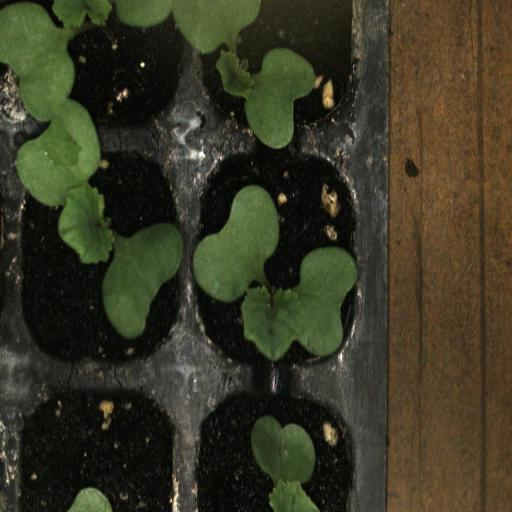Folha: (251, 415, 319, 512)
Germinacao: (10, 138, 191, 376), (190, 140, 366, 376), (192, 0, 363, 141)
